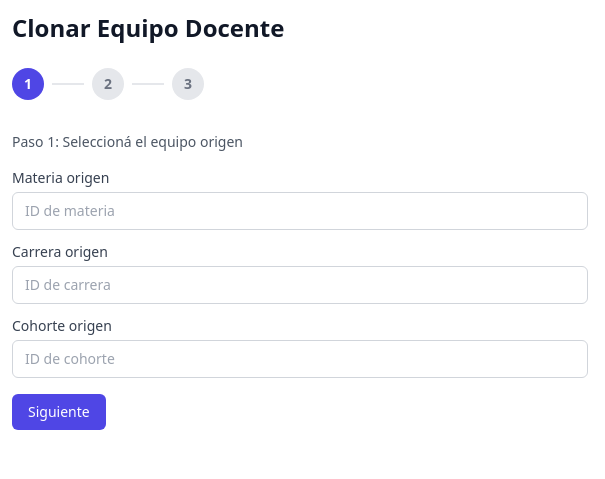
it: ClonarEquipoPage › validates required origin selection before advancing to step 2
Click the button "Siguiente". click: (59, 412)
box: [12,394,106,430]
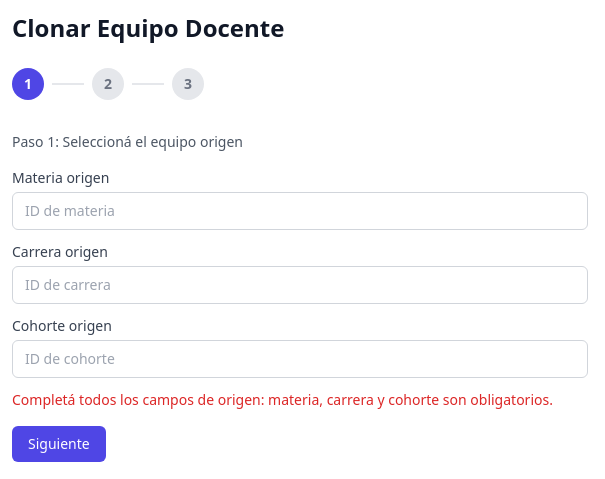
Result: the text "Completá todos los campos de origen" is shown at [12,390,553,409]
